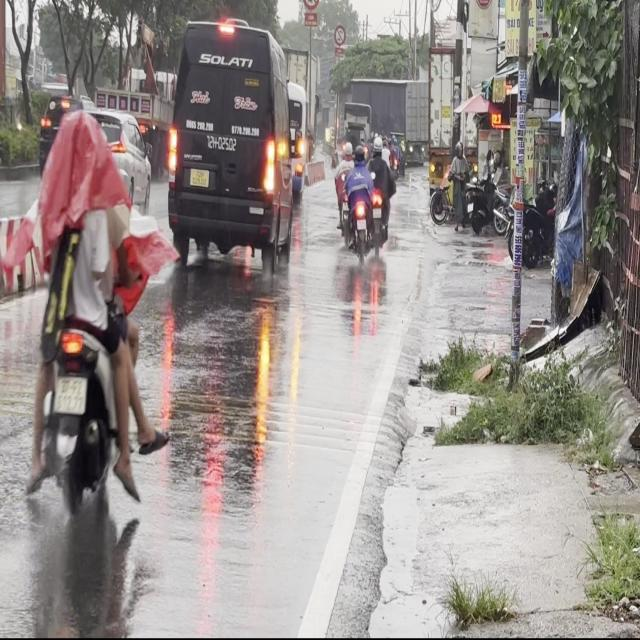licenseplate: (19, 108, 160, 524)
nohelmet: (54, 377, 86, 412)
